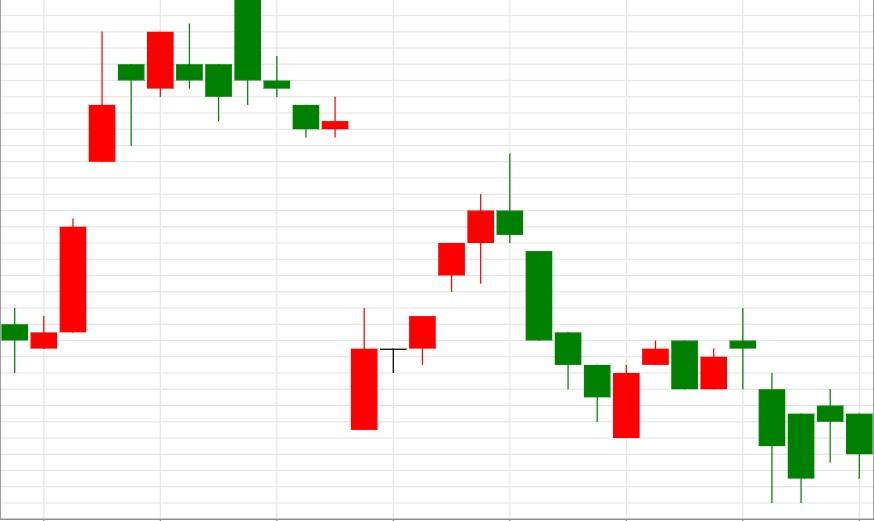hanging_man_fall: (29, 32, 145, 349)
shooting_star_fall: (350, 153, 524, 430)
